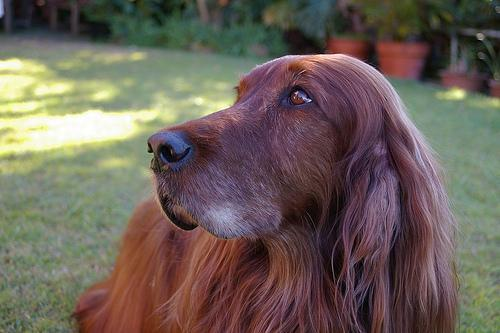Irish_setter: (71, 51, 466, 332)
